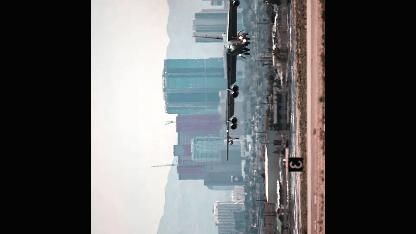B2: (191, 0, 251, 160)
